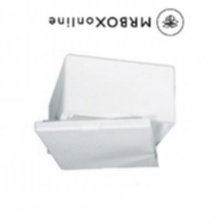foam_box: (28, 49, 182, 177)
